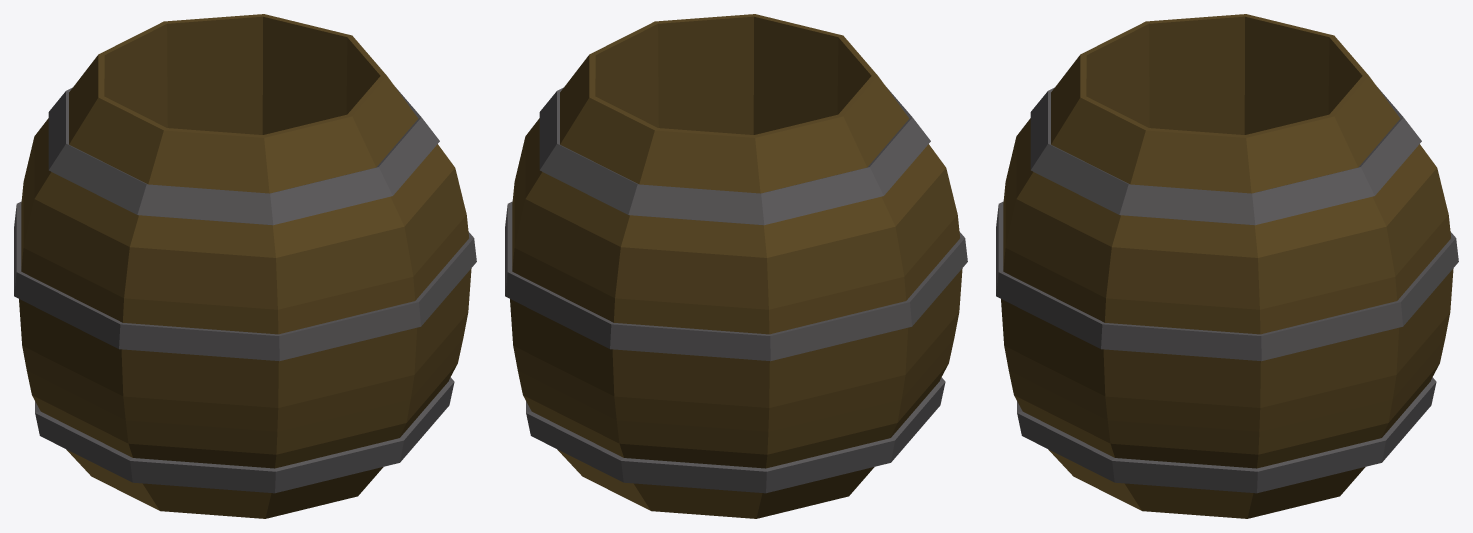
Rendered from barril.fbx.
The picture shows the model from 3 angles, left to right: view 1: azimuth 30°, elevation 25°; view 2: azimuth 150°, elevation 25°; view 3: azimuth 270°, elevation 25°; orthographic projection.
Visible parts, largest first — view 1: Barril; view 2: Barril; view 3: Barril.
Part boxes in pixels (x1=…): Barril: x1=14, y1=14, x2=476, y2=518; Barril: x1=505, y1=14, x2=967, y2=518; Barril: x1=996, y1=14, x2=1458, y2=518.
Size of the model in its own units: 501 by 445 by 494.
